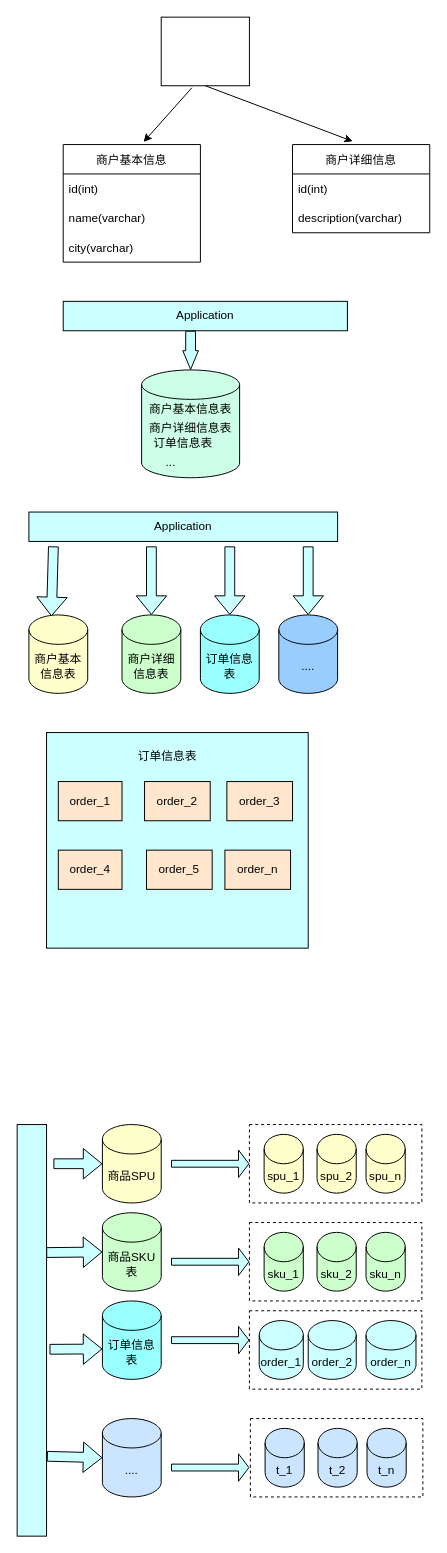
Image size: 447x1553. Some labels were removed from this diagram. Each missing label, with the centre of its shape:
APP: point (31, 1330)
商户信息表: point (204, 51)
